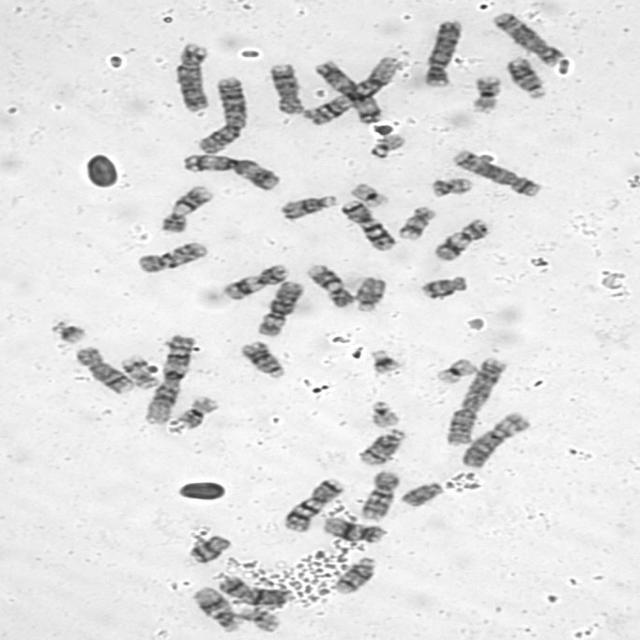A1: (303, 54, 403, 126), (140, 330, 196, 426)
A2: (441, 354, 510, 447), (192, 74, 249, 155)
A3: (310, 58, 388, 124), (178, 150, 282, 192)
B4: (420, 16, 464, 88), (172, 40, 212, 112)
B5: (449, 147, 544, 198), (488, 9, 563, 67)
C10: (132, 238, 211, 274), (356, 468, 402, 522)
C11: (219, 261, 291, 301), (430, 216, 492, 262)
C12: (189, 585, 244, 633), (318, 515, 389, 544)
C6: (457, 408, 532, 469), (252, 278, 305, 337)
C7: (279, 474, 345, 534), (337, 198, 398, 252)
C8: (72, 344, 135, 396), (264, 61, 306, 115)
C9: (157, 182, 215, 234), (303, 261, 356, 309)
D13: (238, 338, 287, 380), (503, 54, 547, 100)
D14: (355, 426, 406, 466), (329, 554, 378, 595)
D15: (276, 192, 339, 222), (352, 274, 387, 312)
E16: (173, 394, 220, 429), (467, 73, 504, 113)
E17: (394, 204, 437, 241), (118, 353, 160, 390)
E18: (177, 534, 233, 566), (418, 273, 469, 300)
F19: (432, 355, 477, 385), (346, 180, 392, 208)
F20: (230, 601, 283, 633), (427, 175, 474, 199)
G21: (48, 317, 90, 345), (367, 347, 404, 374)
G22: (365, 132, 408, 159), (365, 398, 403, 428)
X: (214, 573, 296, 607)
Y: (397, 481, 445, 506)
